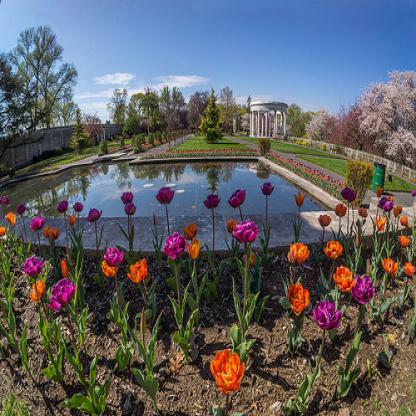TULIP: (5, 164, 412, 406)
